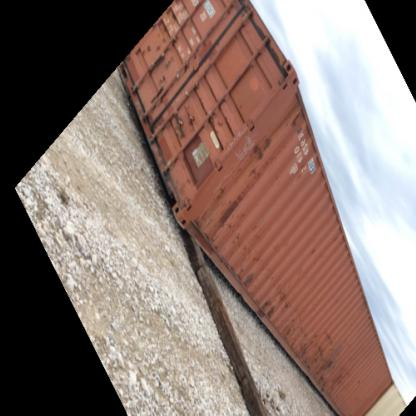Damage: (215, 187, 249, 235), (316, 348, 343, 378), (144, 102, 165, 139), (286, 326, 310, 358), (247, 138, 275, 164), (262, 295, 286, 323), (235, 267, 260, 289)
